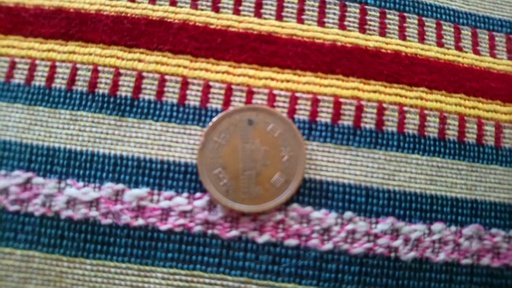10yen: (198, 105, 304, 213)
